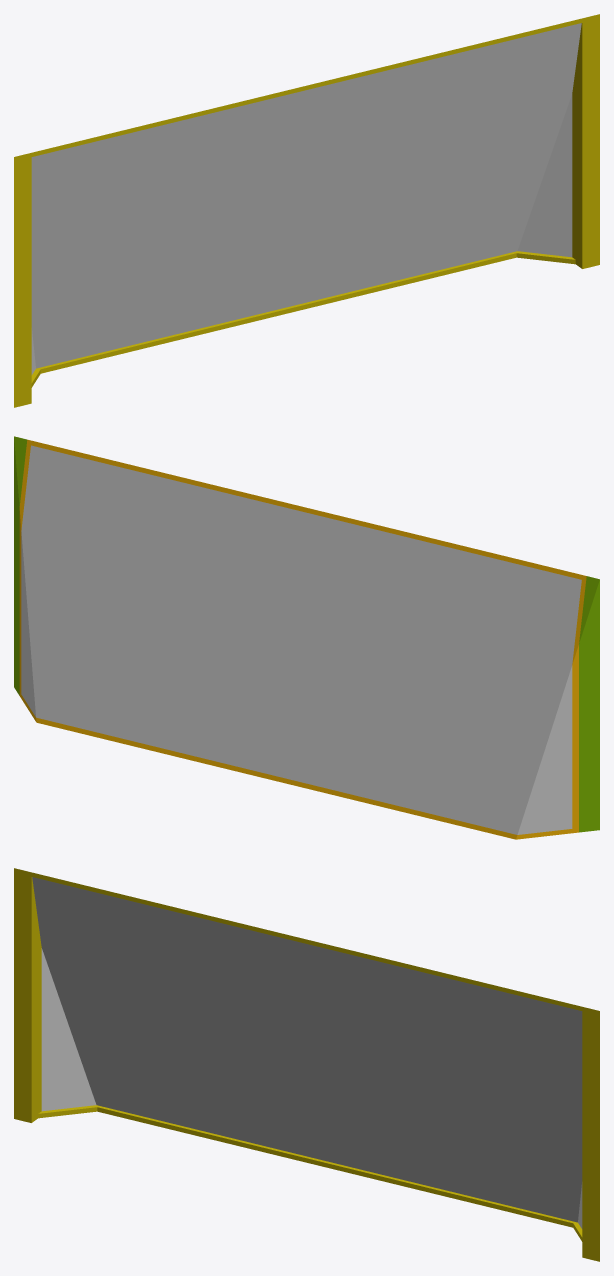
File: window_panoramic_wedge_11x1x5.dae
The picture shows the model from 3 angles, top to bottom: view 1: azimuth 30°, elevation 25°; view 2: azimuth 150°, elevation 25°; view 3: azimuth 330°, elevation 25°; orthographic projection.
Visible parts, largest first — view 1: Cube; view 2: Cube; view 3: Cube.
Part boxes in pixels (<box>): Cube: <box>14,14,599,407</box>; Cube: <box>14,436,599,839</box>; Cube: <box>14,868,599,1261</box>.
Bounding box in the file's own units: 2.75 × 0.25 × 1.12.
